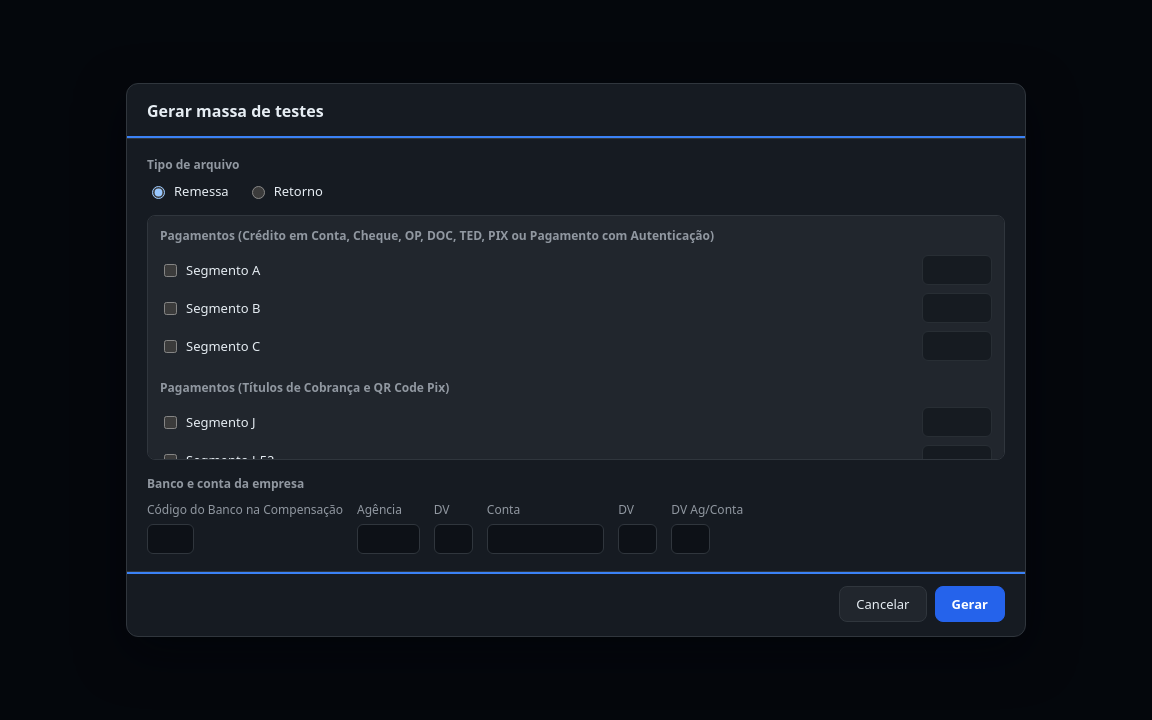
it: GeneratorDialog (US1) › marcar uma variação preenche a quantidade com 10 e habilita Gerar (US1-2, FR-006)
The width and height of the screenshot is (1152, 720).
Click the checkbox with test id "generator-variant-segmento-a-pagamento" at (170, 270), box [164,264,177,277]
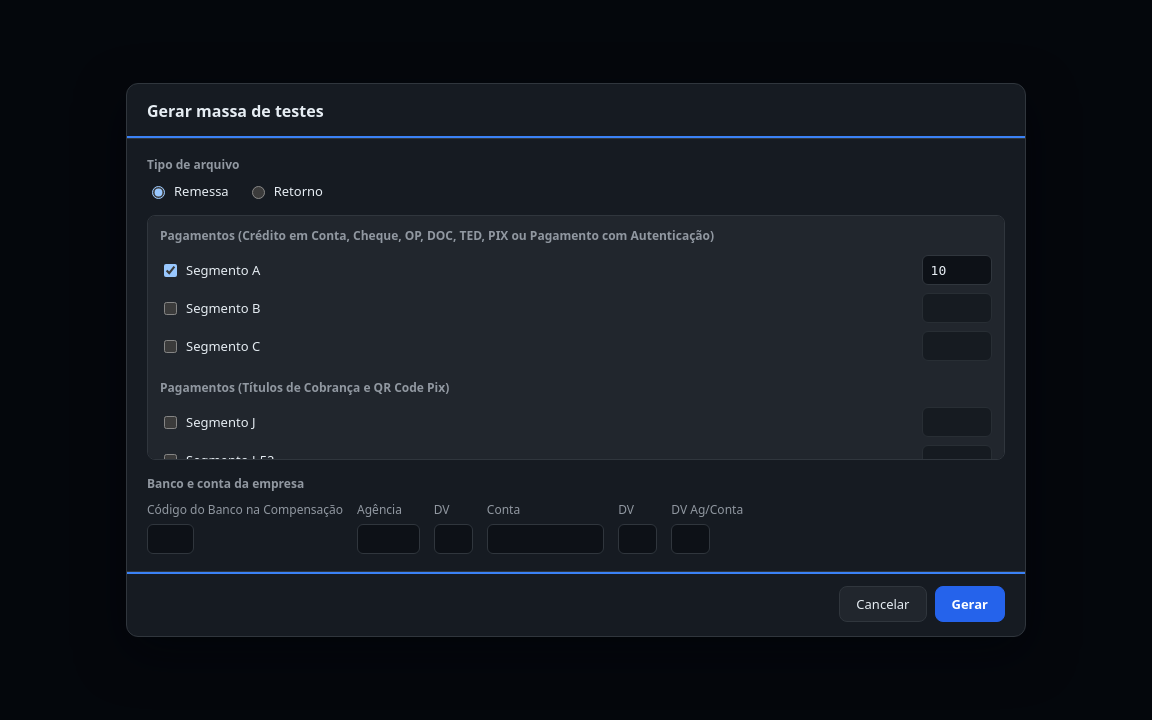
Check: the button with test id "generator-confirm" is enabled, box [934,586,1005,622]
Check: the field with test id "generator-qty-segmento-a-pagamento" is enabled, box [922,255,992,285]
Check: the field with test id "generator-qty-segmento-a-pagamento" holds "10", box [922,255,992,285]
